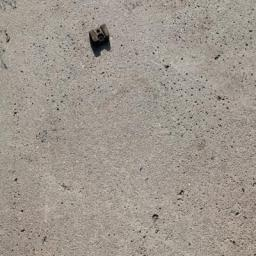FOD: (87, 22, 117, 61)
